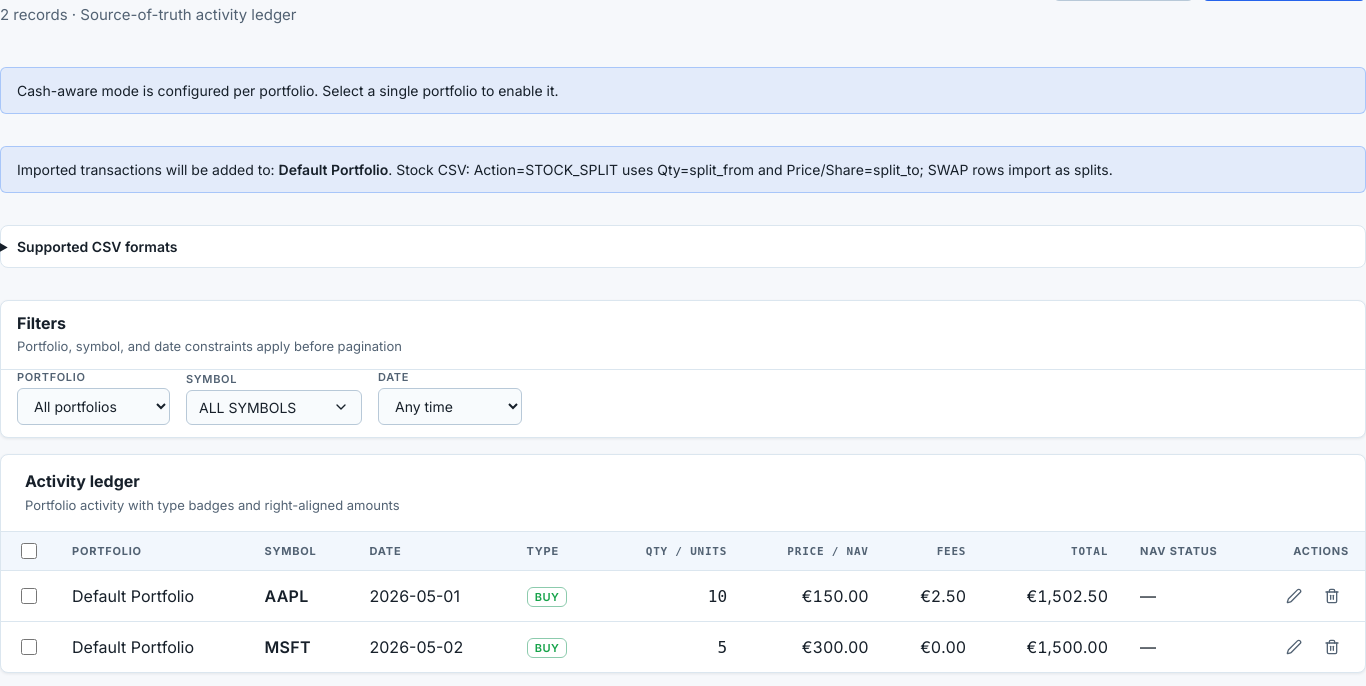
Test case: Transactions Page › assigns selected transactions with full payload and new portfolio_id
The image size is (1366, 686).
Check: the text "AAPL" is shown, box [264,586,309,606]
Click the checkbox named "Select transaction 1" at x=29, y=596, box [21,588,37,604]
(page scrolled)
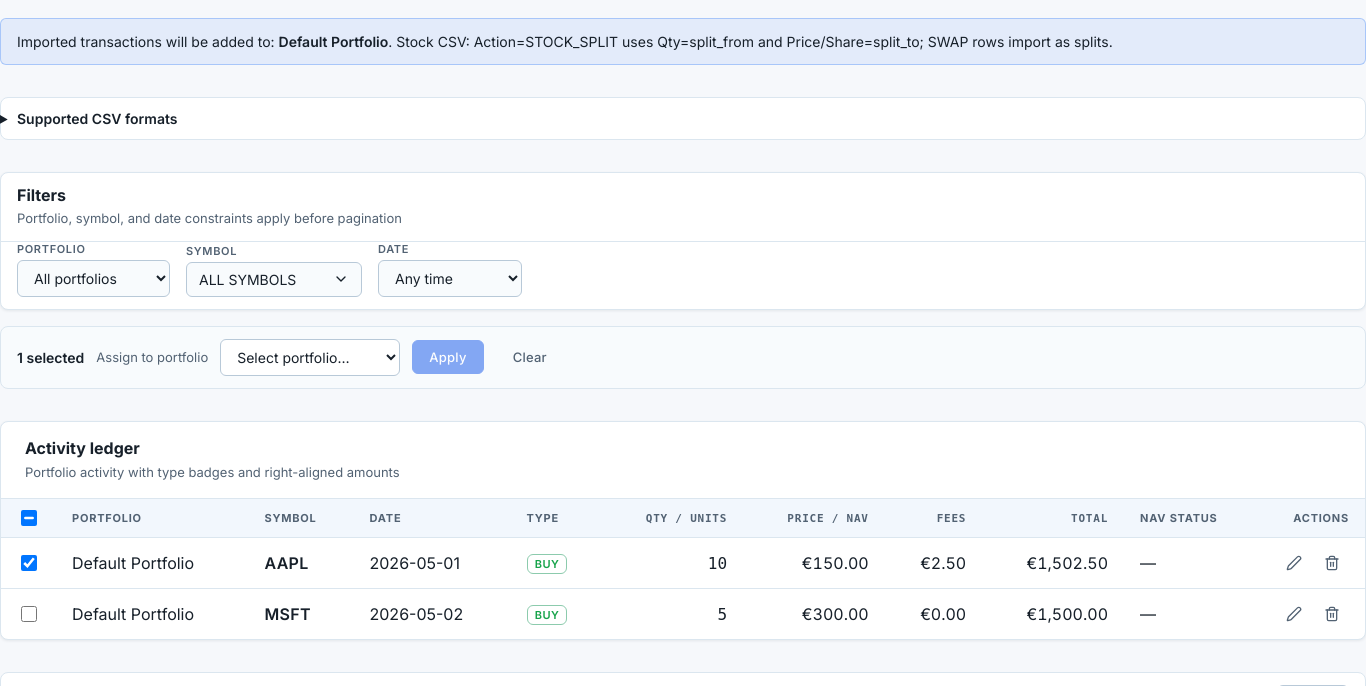
Click the checkbox named "Select transaction 2" at x=29, y=614, box [21,606,37,622]
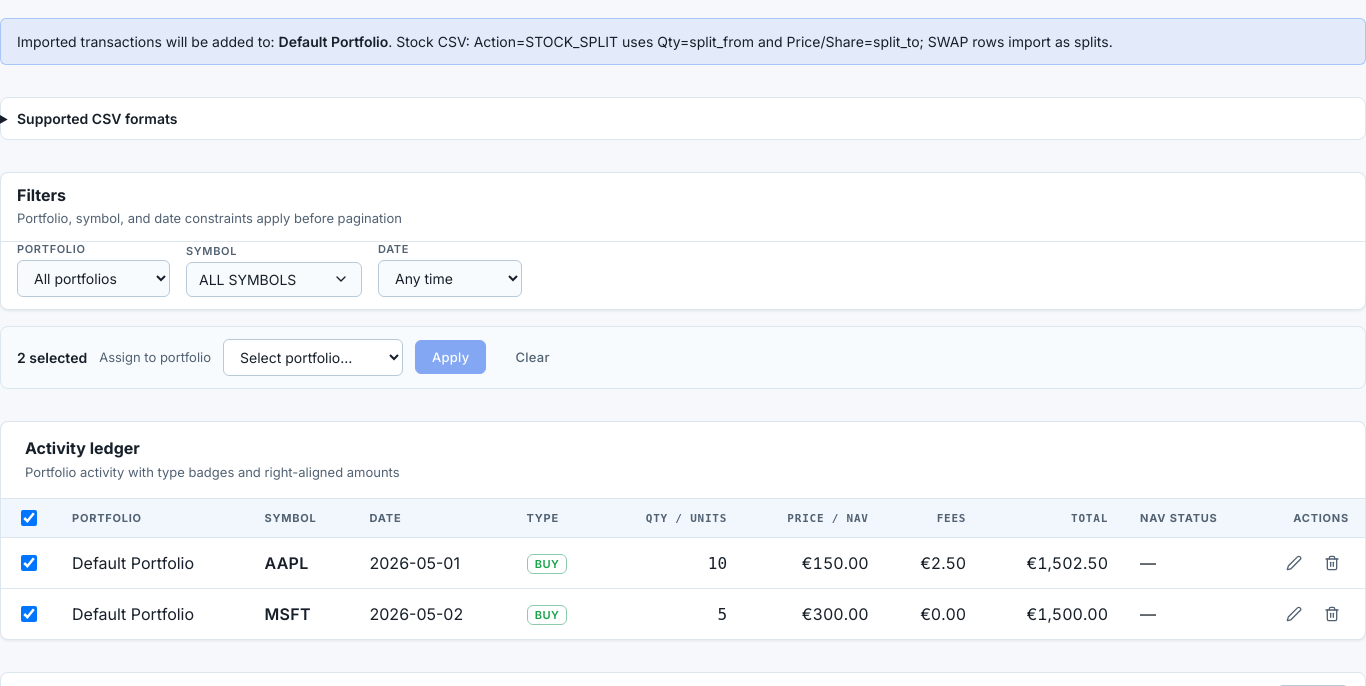
Select "P2" in the dropdown labelled "Assign to portfolio" at x=313, y=357, box [223,339,403,376]
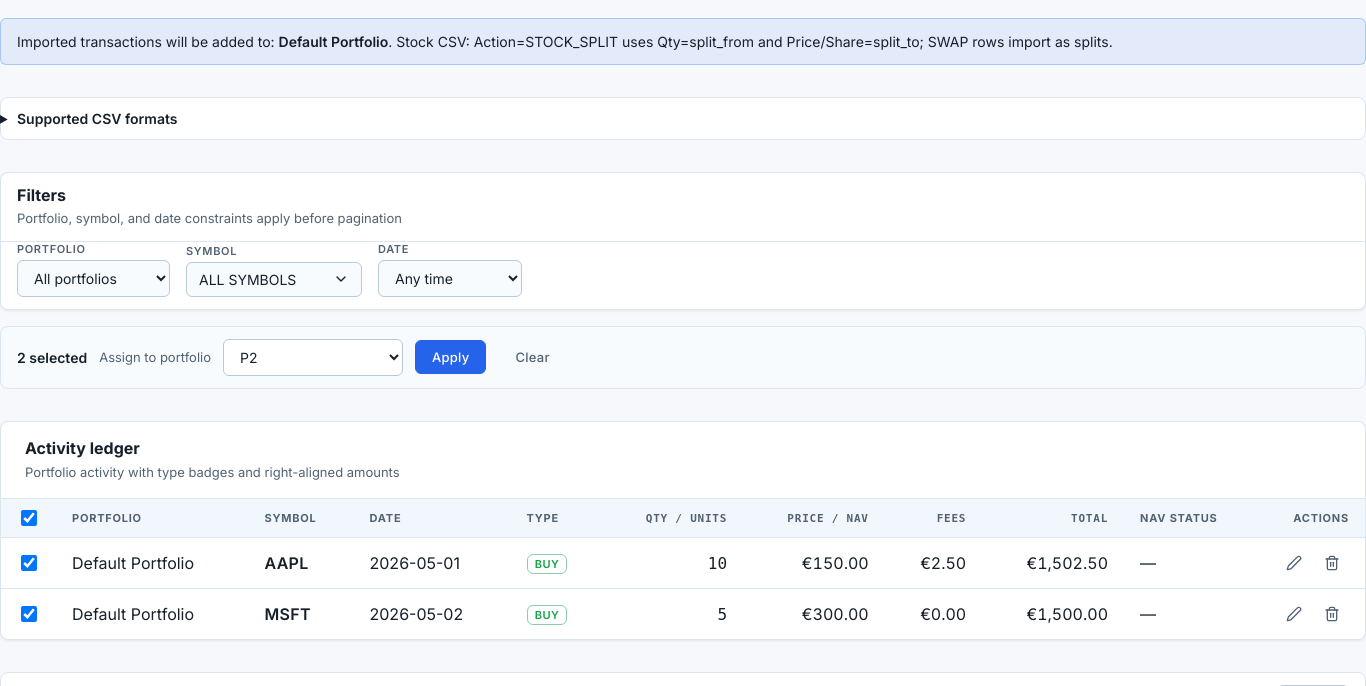
Click the button "Apply" at x=451, y=357, box [415,340,486,374]
(page scrolled)
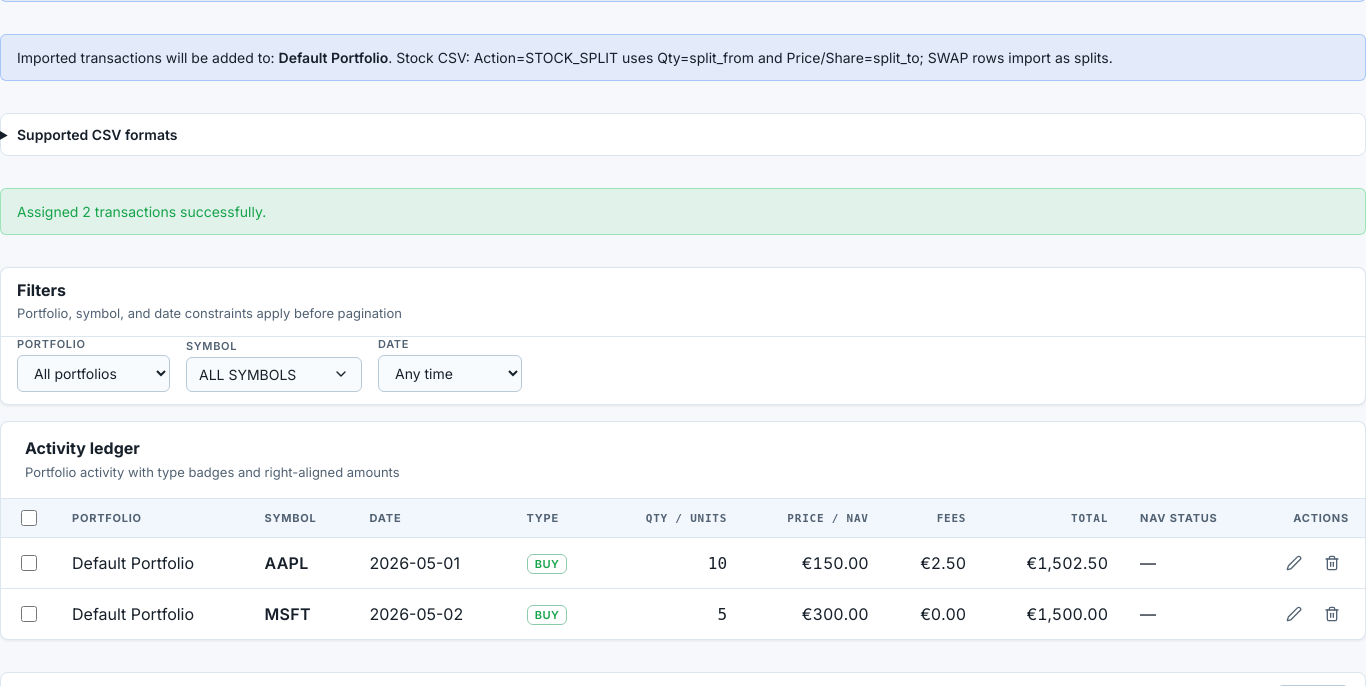
Check: the text "Assigned 2 transactions successfully." is shown, box [17,200,266,222]
Check: the text "2 selected" is gone
